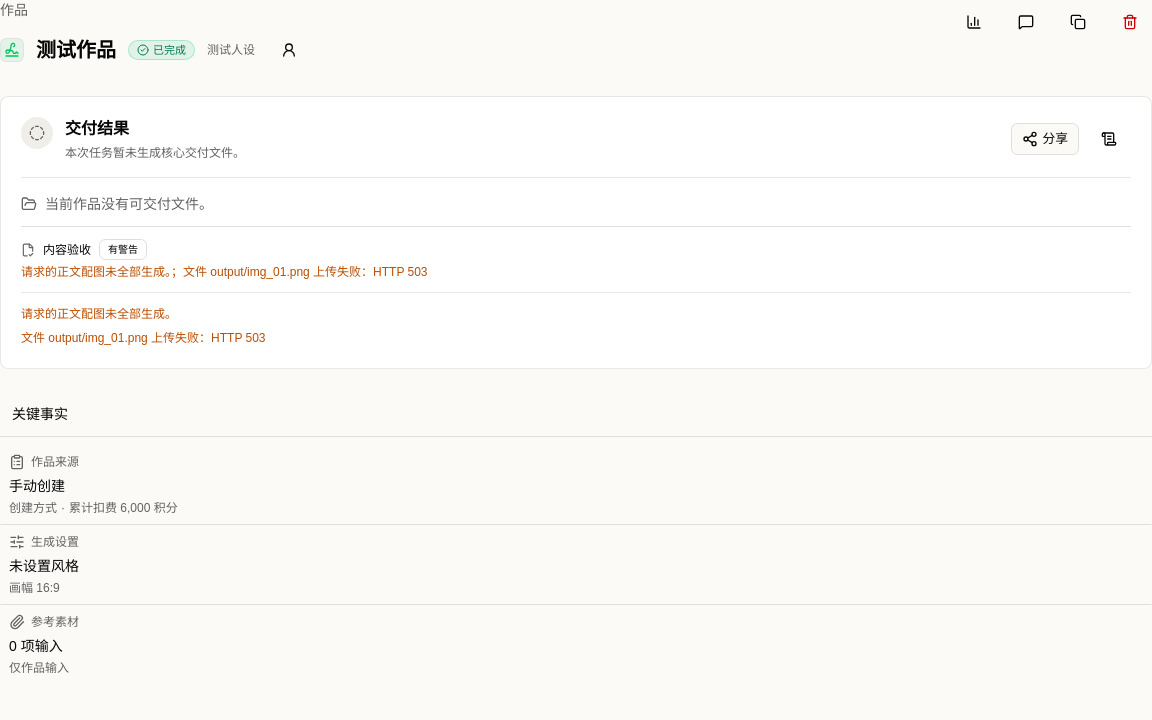
it: TaskDetailPage › renders independent terminal outcome warnings and sanitized provider diagnostics
Check: the element "交付结果" is shown, box top-left (0, 96), bottom-right (1151, 369)
Check: the element named "内容验收结果" shows "有警告", box top-left (108, 244), bottom-right (138, 255)
Click the button with aria-label "打开作品概览" at (55, 462), box top-left (0, 445), bottom-right (1151, 525)
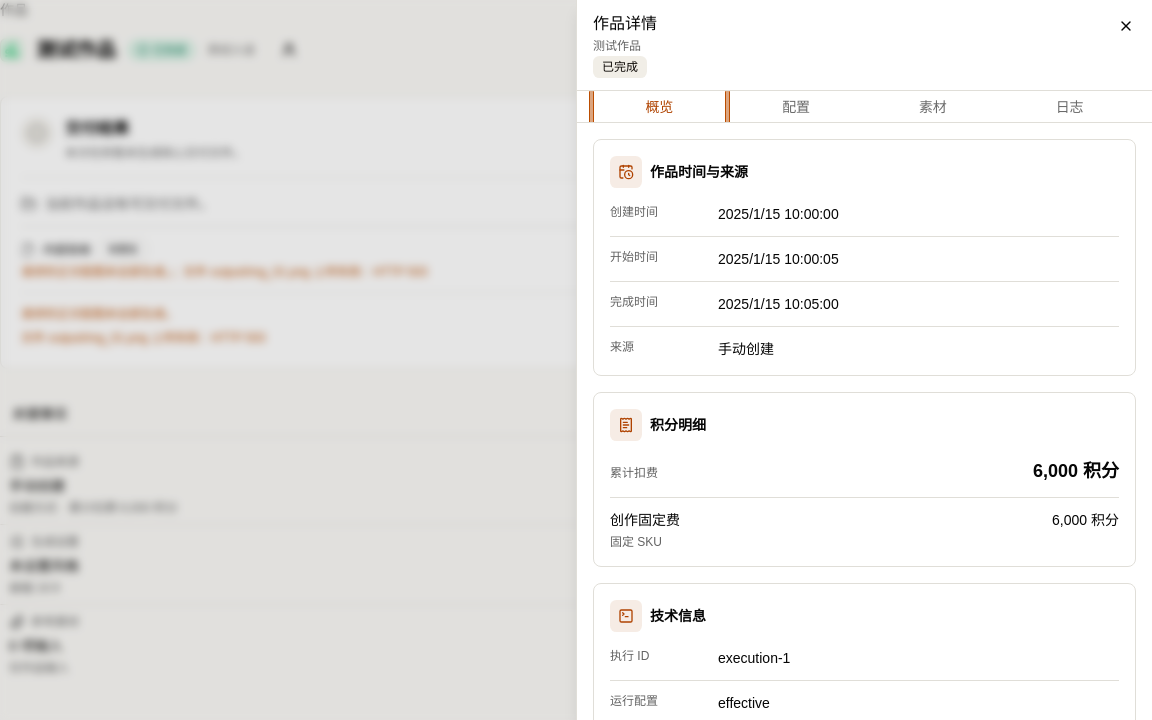
Check: the heading "作品详情" is shown, box top-left (593, 15), bottom-right (657, 32)
Click the tab "概览" at (659, 106), box top-left (593, 84), bottom-right (726, 128)
(page scrolled)
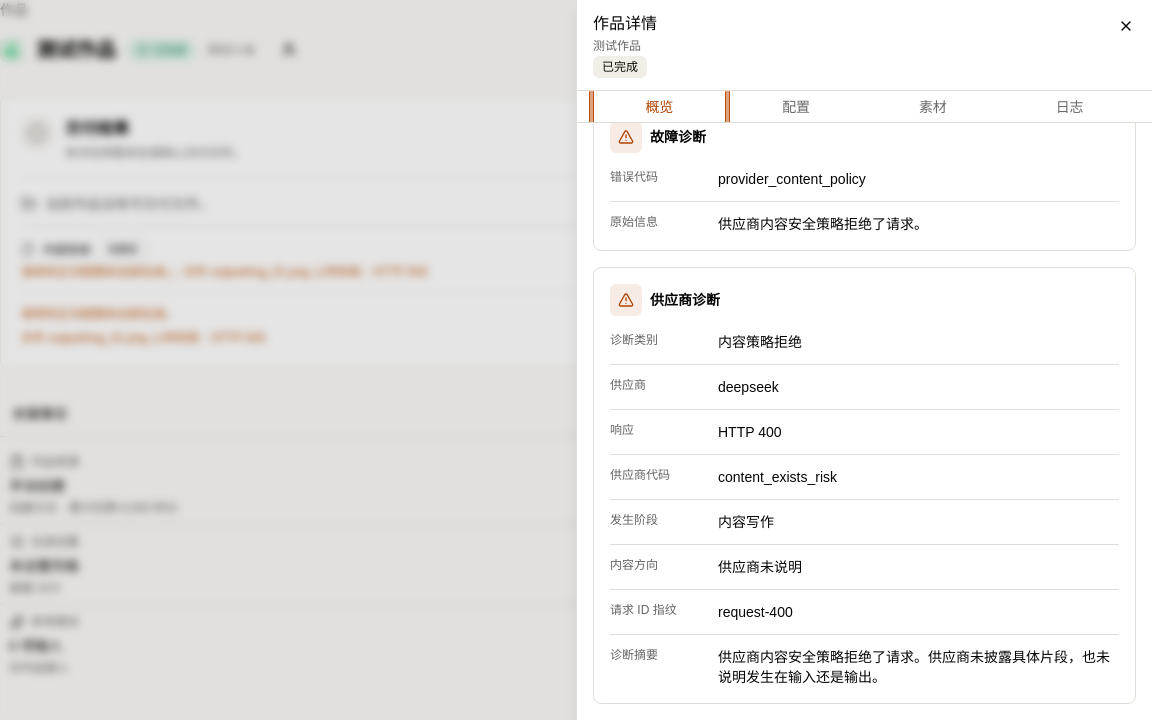
Check: the element "供应商诊断" shows "内容策略拒绝", box top-left (718, 334), bottom-right (802, 350)
Check: the element "供应商诊断" shows "deepseek", box top-left (718, 379), bottom-right (779, 395)
Check: the element "供应商诊断" shows "HTTP 400", box top-left (718, 424), bottom-right (782, 440)
